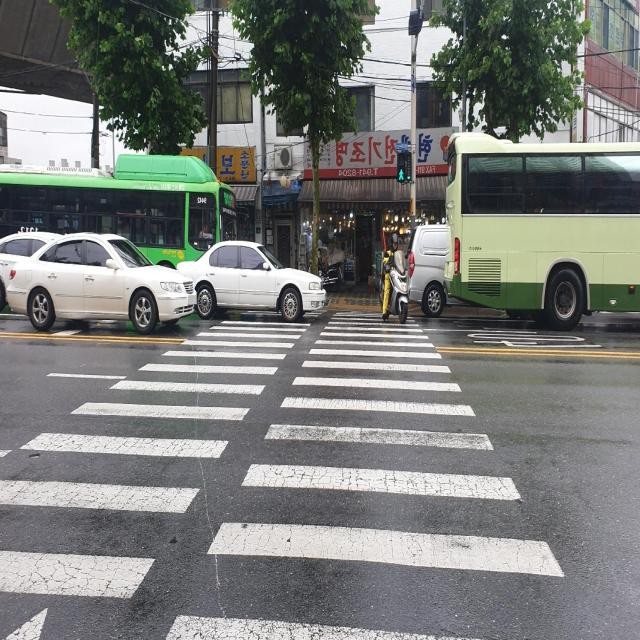zebra crossing ahead at: (0, 311, 586, 640)
